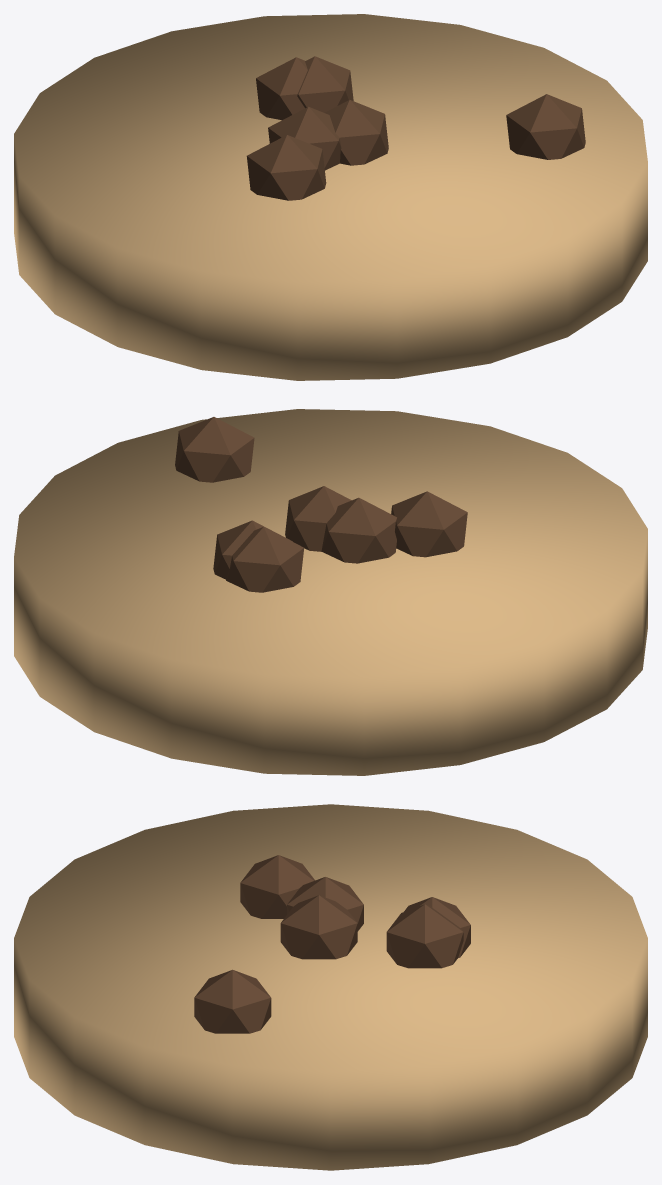
Rendered from cookie.glb.
3 renders of one model, top to bottom at view 1: azimuth 30°, elevation 25°; view 2: azimuth 150°, elevation 25°; view 3: azimuth 270°, elevation 25°, orthographic.
Parts seen in each view (by area): view 1: Cookie, Choc0, Choc2, Choc1, Choc5, Choc4, Choc3; view 2: Cookie, Choc0, Choc2, Choc3, Choc5, Choc1, Choc4; view 3: Cookie, Choc1, Choc0, Choc4, Choc2, Choc3, Choc5.
Part boxes in pixels (x1,y1,x2,y2): Cookie: (14,14,647,380); Choc0: (506,94,585,159); Choc2: (246,135,326,200); Choc1: (324,100,388,165); Choc5: (256,57,307,119); Choc4: (297,56,353,112); Choc3: (268,106,341,170); Cookie: (14,409,647,775); Choc0: (175,417,254,482); Choc2: (391,491,467,557); Choc3: (321,497,396,563); Choc5: (226,527,304,592); Choc1: (285,486,351,551); Choc4: (213,520,292,579); Cookie: (14,804,647,1170); Choc1: (280,895,357,959); Choc0: (194,969,271,1033); Choc4: (386,904,463,968); Choc2: (240,855,314,918); Choc3: (287,877,363,931); Choc5: (404,897,470,957).
Bounding box in the file's own units: 0.07 × 0.018 × 0.07.
